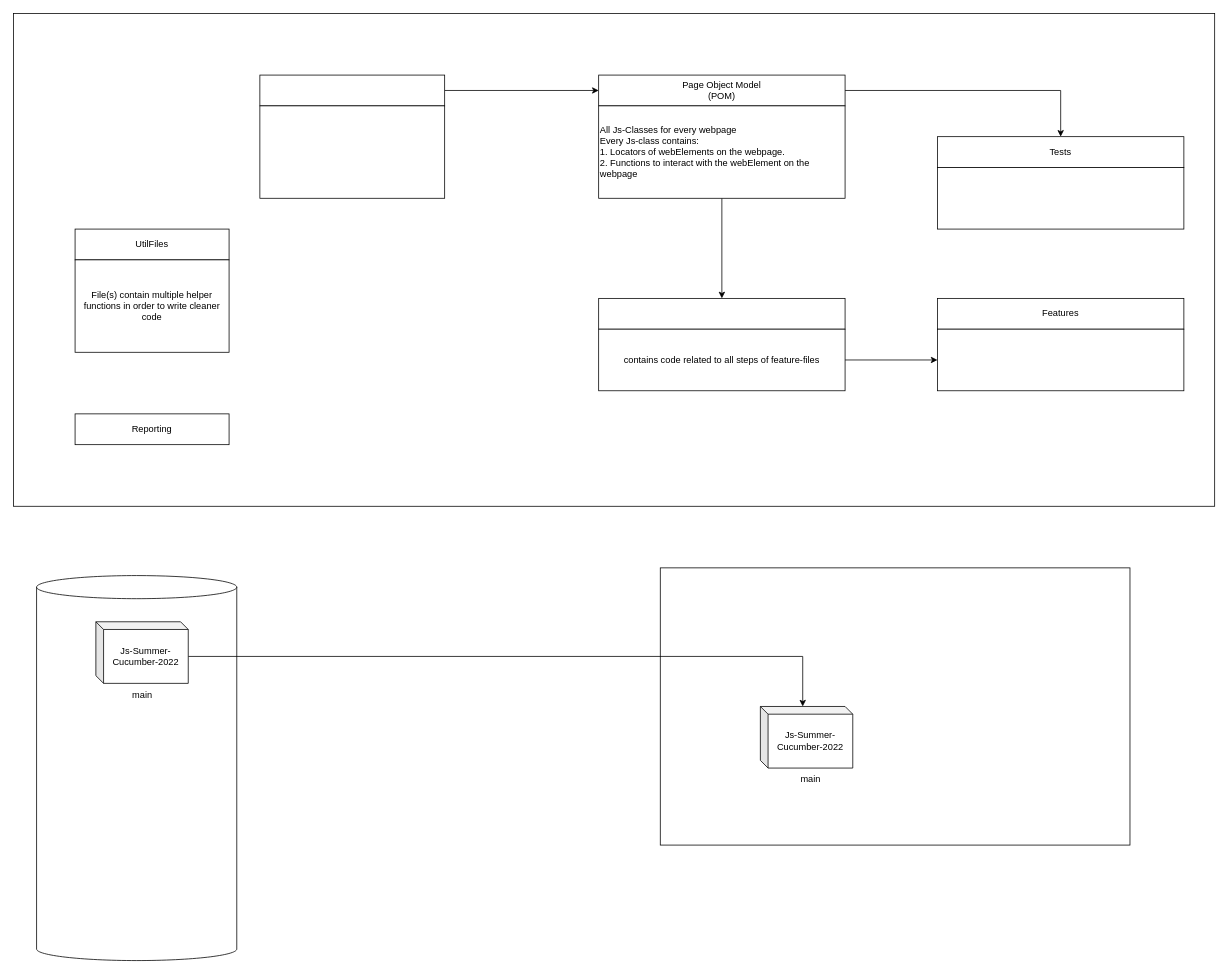
The diagram is 1228 pixels wide and 974 high, and some of its shapes have lost their labels. Here are the shapes that lost their labels. From the top down, the centre of each, then its label:
pixel 352 90: Commands
pixel 352 151: Class containing user-defined functions using wdio-functions
pixel 1060 198: contains all testcases for the web-application
pixel 721 313: StepDefinitions
pixel 1060 359: contains all features-files for the web-application
